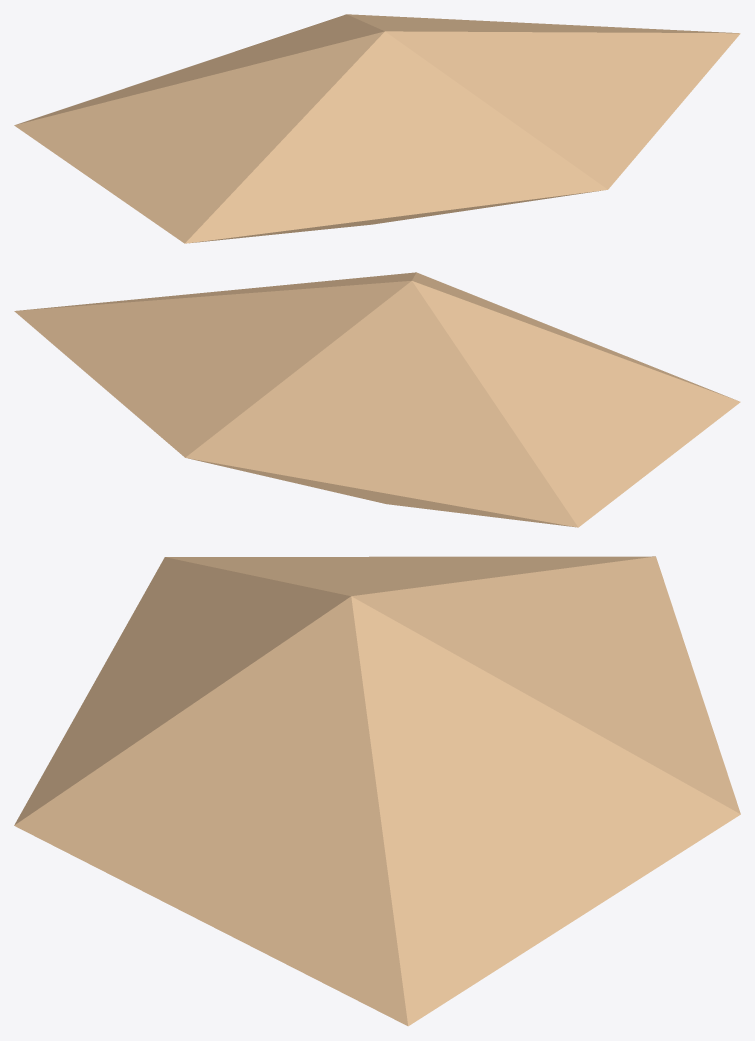
The picture shows the model from 3 angles, top to bottom: view 1: azimuth 30°, elevation 25°; view 2: azimuth 150°, elevation 25°; view 3: azimuth 270°, elevation 25°; orthographic projection. The views are drawn at different scales.
Bounding box in the file's own units: 22.56 × 7 × 14.91.
